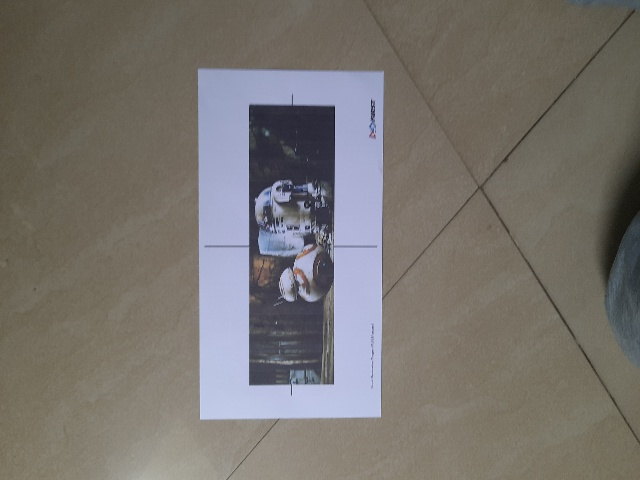fpt2: (222, 89, 378, 413)
